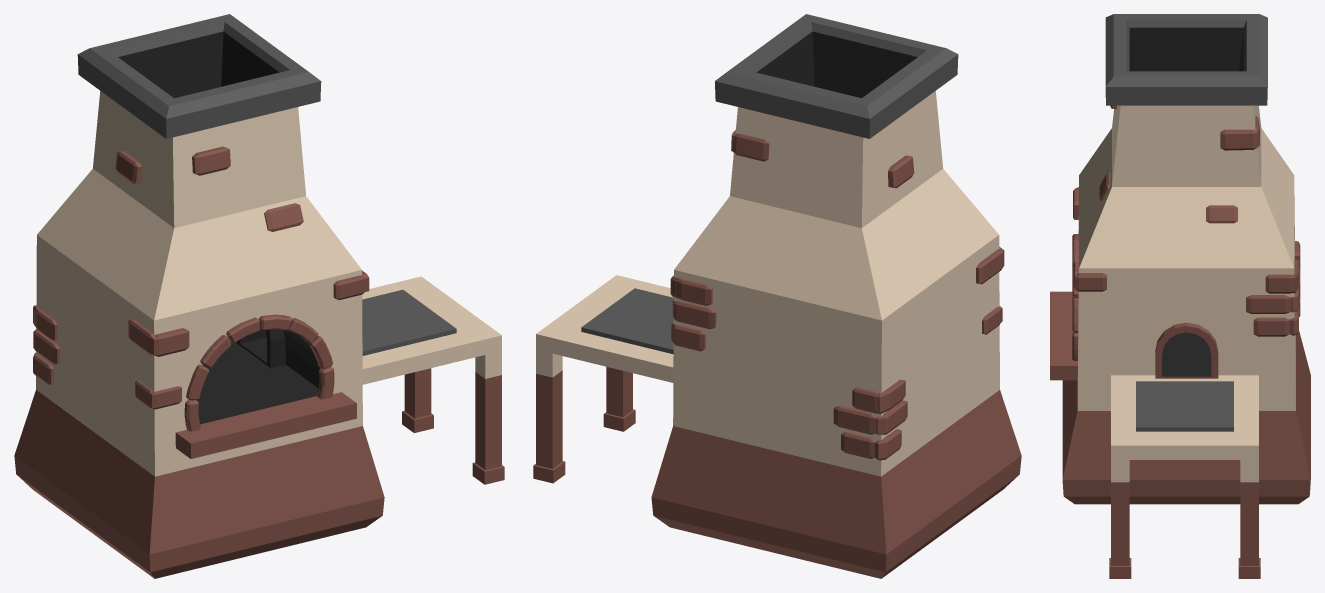
The model's file is furnance.fbx.
3 renders of one model, left to right at view 1: azimuth 30°, elevation 25°; view 2: azimuth 150°, elevation 25°; view 3: azimuth 270°, elevation 25°, orthographic. The views are drawn at different scales.
Parts seen in each view (by area): view 1: furnance, bricks; view 2: furnance, bricks; view 3: furnance, bricks.
Boxes of the visible parts, box(x1,y1,x2,y2) form: furnance: box(14, 14, 504, 578); bricks: box(33, 146, 369, 409); furnance: box(533, 14, 1021, 578); bricks: box(670, 130, 1004, 460); furnance: box(1050, 14, 1310, 578); bricks: box(1073, 105, 1300, 336).
Size of the model in its own units: 512 by 583 by 331.
